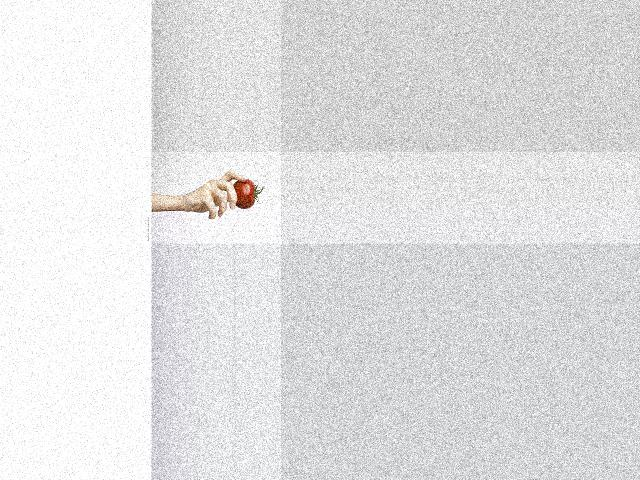tomato: (233, 180, 264, 209)
